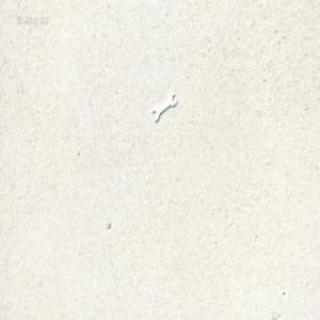Wrenchtrack_idkeyframe: (151, 90, 176, 122)
